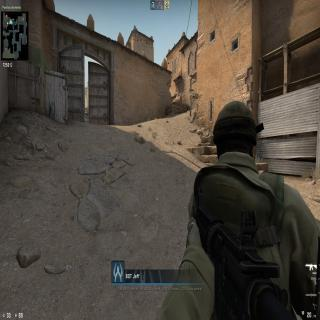CT-Head: (213, 93, 263, 165)
